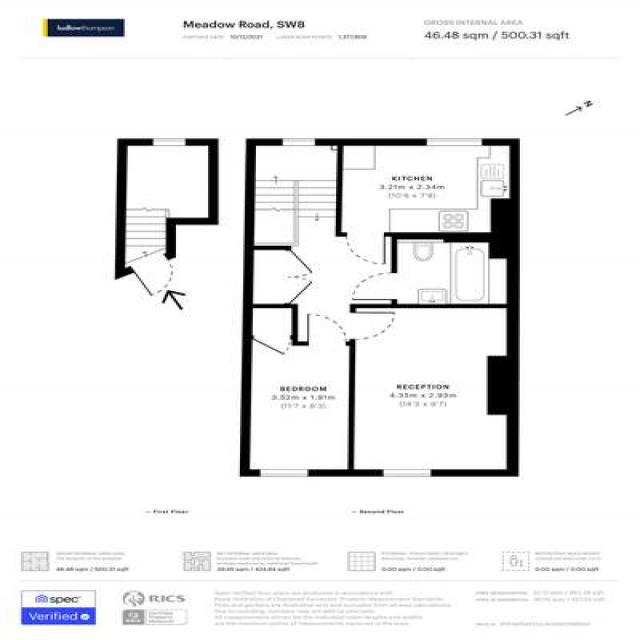DOOR: (305, 312, 349, 346), (345, 231, 387, 266), (348, 311, 397, 341), (350, 272, 399, 301)
ROOM: (348, 304, 520, 477), (335, 138, 520, 267), (239, 303, 356, 477)
WINDOW: (257, 468, 310, 478), (381, 468, 433, 478), (426, 138, 483, 147), (281, 138, 317, 147)
